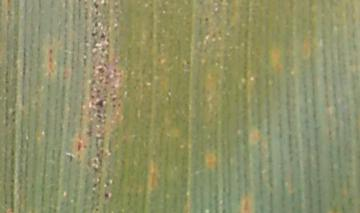tarspot: (95, 100, 103, 107), (103, 193, 109, 199)
